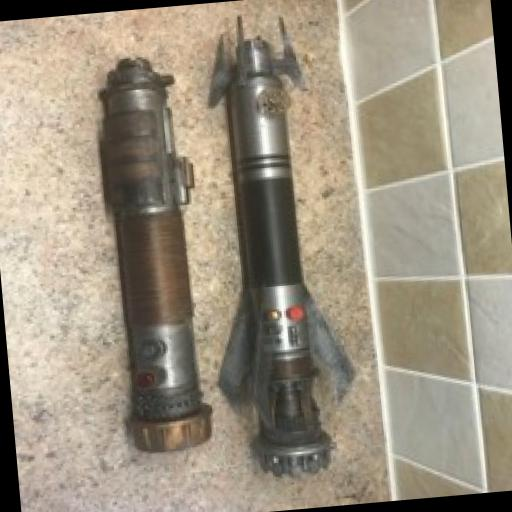lightsaber: (196, 8, 360, 475), (93, 50, 220, 456)
